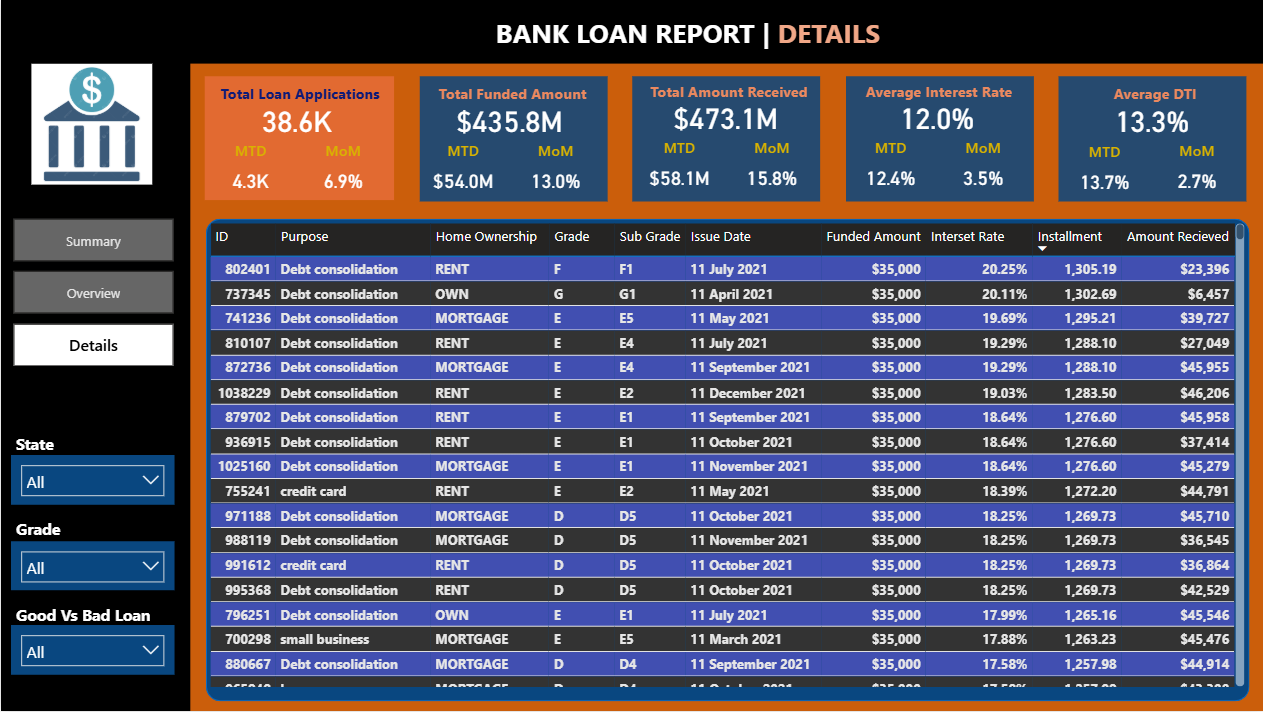

This screenshot's page, from the dashboard's own definition file:
{"tool":"powerbi","page":{"name":"Details","canvas":[1280,720],"ordinal":2},"visuals":[{"type":"card","fields":{"Values":["bank_loan_db bank_loan.Total Amount Recieved"]},"box":[640.2,77.8,186.8,83.7],"z":0,"group":"g3"},{"type":"card","fields":{"Values":["bank_loan_db bank_loan.Average Interset Rate"]},"box":[855,77.8,186.8,83.7],"z":0,"group":"g4"},{"type":"card","fields":{"Values":["bank_loan_db bank_loan.Total Loan Applications"]},"box":[206.3,79.3,186.8,83.7],"z":0,"group":"g1"},{"type":"card","fields":{"Values":["bank_loan_db bank_loan.Total Funded Amount"]},"box":[421.1,79.3,186.8,83.7],"z":0,"group":"g2"},{"type":"card","fields":{"Values":["bank_loan_db bank_loan.Average DTI"]},"box":[1071.7,79.3,186.8,83.7],"z":0,"group":"g5"},{"type":"shape","box":[207.6,222,1056.6,488.6],"z":0},{"type":"shape","box":[0,0,1280,54.3],"z":1000},{"type":"textbox","box":[640.2,77.8,193.3,54.8],"z":1000,"group":"g3"},{"type":"textbox","box":[855,77.8,193.3,54.8],"z":1000,"group":"g4"},{"type":"textbox","box":[206.3,79.3,193.3,54.8],"z":1000,"group":"g1"},{"type":"textbox","box":[421.1,79.3,193.3,54.8],"z":1000,"group":"g2"},{"type":"textbox","box":[1071.7,79.3,193.3,54.8],"z":1000,"group":"g5"},{"type":"textbox","box":[430.7,0,510.3,54.3],"z":2000},{"type":"card","title":"MTD","fields":{"Values":["bank_loan_db bank_loan.MTD Total Amount Recieved"]},"box":[640,139.7,93.3,63.4],"z":2000,"group":"g3"},{"type":"card","title":"MTD","fields":{"Values":["bank_loan_db bank_loan.MTD Avrage Interset Rate"]},"box":[854.8,139.7,93.3,63.4],"z":2000,"group":"g4"},{"type":"card","title":"MTD","fields":{"Values":["bank_loan_db bank_loan.MTD Loan Applications"]},"box":[206.1,141.2,93.3,63.4],"z":2000,"group":"g1"},{"type":"card","title":"MTD","fields":{"Values":["bank_loan_db bank_loan.MTD Total Funded Amount"]},"box":[420.9,141.2,93.3,63.4],"z":2000,"group":"g2"},{"type":"card","title":"MTD","fields":{"Values":["bank_loan_db bank_loan.MTD Average DTI"]},"box":[1071,142,93.7,63.4],"z":2000,"group":"g5"},{"type":"shape","box":[206.1,77.8,191.7,125.4],"z":3000},{"type":"card","title":"MoM","fields":{"Values":["bank_loan_db bank_loan.MoM Total Amount Received"]},"box":[733.3,139.7,93.3,63.4],"z":3000,"group":"g3"},{"type":"card","title":"MoM","fields":{"Values":["bank_loan_db bank_loan.MoM Average Interest Rate"]},"box":[948.1,139.7,93.3,63.4],"z":3000,"group":"g4"},{"type":"card","title":"MoM","fields":{"Values":["bank_loan_db bank_loan.MoM Loan Applications"]},"box":[299.4,141.2,93.3,63.4],"z":3000,"group":"g1"},{"type":"card","title":"MoM","fields":{"Values":["bank_loan_db bank_loan.MoM Total Funded Amount"]},"box":[514.2,141.2,93.3,63.4],"z":3000,"group":"g2"},{"type":"card","title":"MoM","fields":{"Values":["bank_loan_db bank_loan.MoM Average DTI"]},"box":[1164.8,141.2,93.3,63.4],"z":3000,"group":"g5"},{"type":"group","id":"g1","title":"Group 1","box":[206.1,79.3,193.2,125.4],"z":4000},{"type":"shape","box":[423.4,77.8,190.3,126.8],"z":5000},{"type":"group","id":"g2","title":"Group 1","box":[420.9,79.3,193.2,125.4],"z":6000},{"type":"shape","box":[639.3,77.8,190.3,126.8],"z":7000},{"type":"group","id":"g3","title":"Group 1","box":[640,77.8,193.2,125.4],"z":8000},{"type":"shape","box":[855.1,77.8,190.3,126.8],"z":9000},{"type":"shape","box":[0,54.8,191.7,665.9],"z":10000},{"type":"group","id":"g4","title":"Group 1","box":[854.8,77.8,193.2,125.4],"z":11000},{"type":"shape","box":[1071,77.8,190.3,126.8],"z":12000},{"type":"group","id":"g5","title":"Group 1","box":[1071,79.3,193.2,125.4],"z":13000},{"type":"slicer","fields":{"Values":["bank_loan_db bank_loan.address_state"]},"box":[9.7,460.9,165.3,50.7],"z":14000},{"type":"textbox","box":[9.7,433.1,82,56.7],"z":15000},{"type":"textbox","box":[9.7,518.8,82,57.9],"z":16000},{"type":"slicer","fields":{"Values":["bank_loan_db bank_loan.grade"]},"box":[9.7,547.7,165.3,49.5],"z":17000},{"type":"slicer","fields":{"Values":["bank_loan_db bank_loan.Good Vs Bad Loan"]},"box":[9.7,633.4,165.3,50.7],"z":18000},{"type":"textbox","box":[10.1,606.8,167.2,50.5],"z":19000},{"type":"tableEx","fields":{"Values":["bank_loan_db bank_loan.id","bank_loan_db bank_loan.purpose","bank_loan_db bank_loan.home_ownership","bank_loan_db bank_loan.grade","bank_loan_db bank_loan.sub_grade","bank_loan_db bank_loan.issue_date","bank_loan_db bank_loan.Total Funded Amount","bank_loan_db bank_loan.Average Interset Rate","Sum(bank_loan_db bank_loan.installment)","bank_loan_db bank_loan.Total Amount Recieved"]},"box":[206.1,222,1058,478.6],"z":20000},{"type":"pageNavigator","box":[13.3,222,162.9,150.8],"z":21000},{"type":"shape","box":[0,10,1280,54.3],"z":22000},{"type":"image","box":[23.1,64.9,138.4,122.5],"z":23000},{"type":"textbox","box":[440.7,10,510.3,54.3],"z":24000}]}

Visuals, with their boxes in screenshot pixels (x1, y1, x2, y2), scaled from the page's 1280x720 canvas onto the 1263x712 screenshot:
card - bank_loan_db bank_loan.Total Amount Recieved: 632:77:816:160
card - bank_loan_db bank_loan.Average Interset Rate: 844:77:1028:160
card - bank_loan_db bank_loan.Total Loan Applications: 204:78:388:161
card - bank_loan_db bank_loan.Total Funded Amount: 416:78:600:161
card - bank_loan_db bank_loan.Average DTI: 1057:78:1242:161
shape: 205:220:1247:703
shape: 0:0:1262:54
textbox: 632:77:822:131
textbox: 844:77:1034:131
textbox: 204:78:394:133
textbox: 416:78:606:133
textbox: 1057:78:1248:133
textbox: 425:0:929:54
"MTD" card: 632:138:724:201
"MTD" card: 843:138:936:201
"MTD" card: 203:140:295:202
"MTD" card: 415:140:507:202
"MTD" card: 1057:140:1149:203
shape: 203:77:393:201
"MoM" card: 724:138:816:201
"MoM" card: 936:138:1028:201
"MoM" card: 295:140:387:202
"MoM" card: 507:140:599:202
"MoM" card: 1149:140:1241:202
"Group 1" group: 203:78:394:202
shape: 418:77:606:202
"Group 1" group: 415:78:606:202
shape: 631:77:819:202
"Group 1" group: 632:77:822:201
shape: 844:77:1032:202
shape: 0:54:189:711
"Group 1" group: 843:77:1034:201
shape: 1057:77:1245:202
"Group 1" group: 1057:78:1247:202
slicer - bank_loan_db bank_loan.address_state: 10:456:173:506
textbox: 10:428:90:484
textbox: 10:513:90:570
slicer - bank_loan_db bank_loan.grade: 10:542:173:591
slicer - bank_loan_db bank_loan.Good Vs Bad Loan: 10:626:173:676
textbox: 10:600:175:650
tableEx - bank_loan_db bank_loan.id x bank_loan_db bank_loan.purpose: 203:220:1247:693
pageNavigator: 13:220:174:369
shape: 0:10:1262:64
image: 23:64:159:185
textbox: 435:10:938:64
